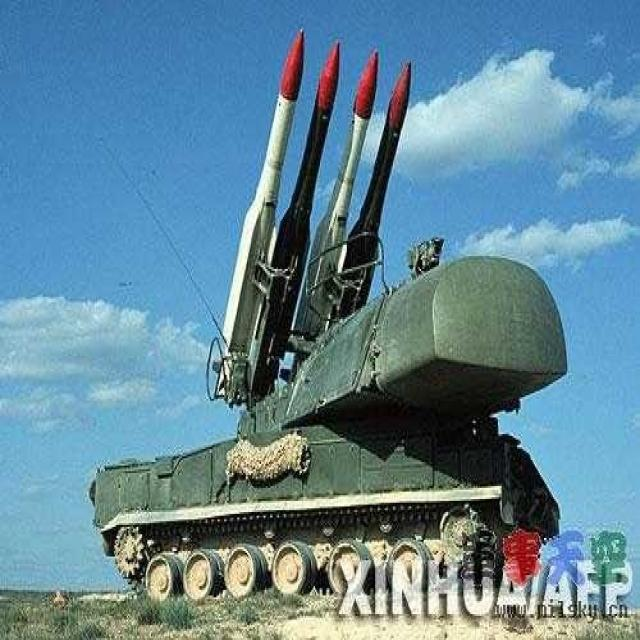missile: (215, 25, 308, 396), (232, 36, 343, 317), (292, 47, 380, 337), (344, 59, 414, 279)
